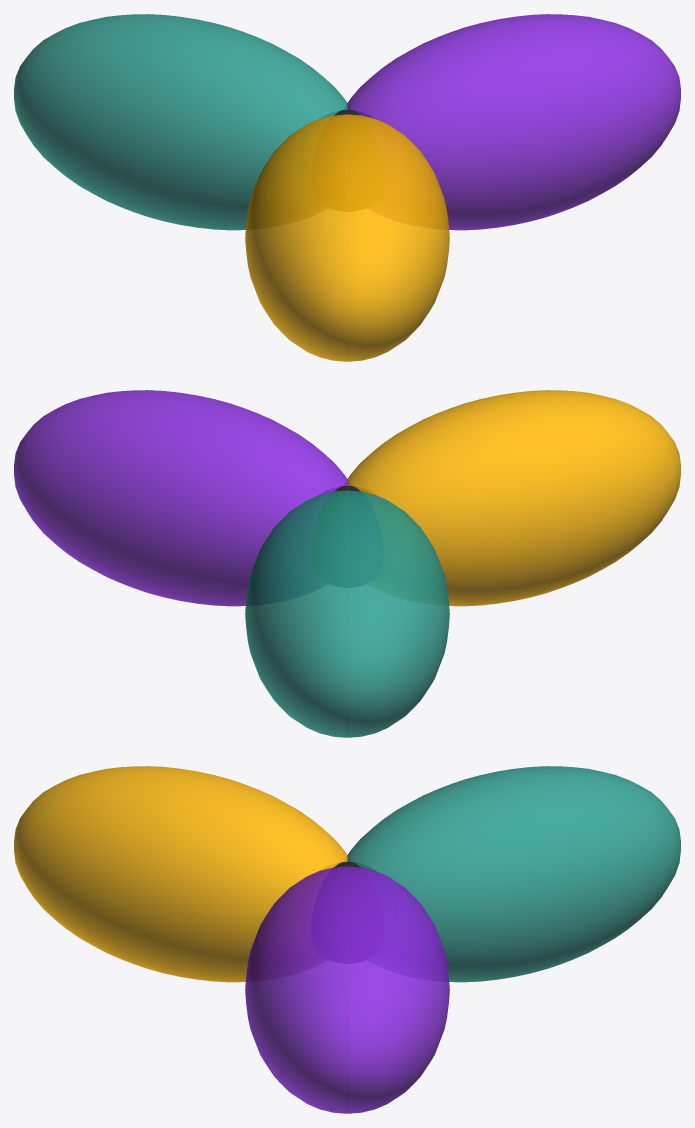
The model's file is sp2-fixed.glb.
The picture shows the model from 3 angles, top to bottom: view 1: azimuth 30°, elevation 25°; view 2: azimuth 150°, elevation 25°; view 3: azimuth 270°, elevation 25°; orthographic projection.
Bounding box in the file's own units: 1.64 × 0.56 × 1.82.
